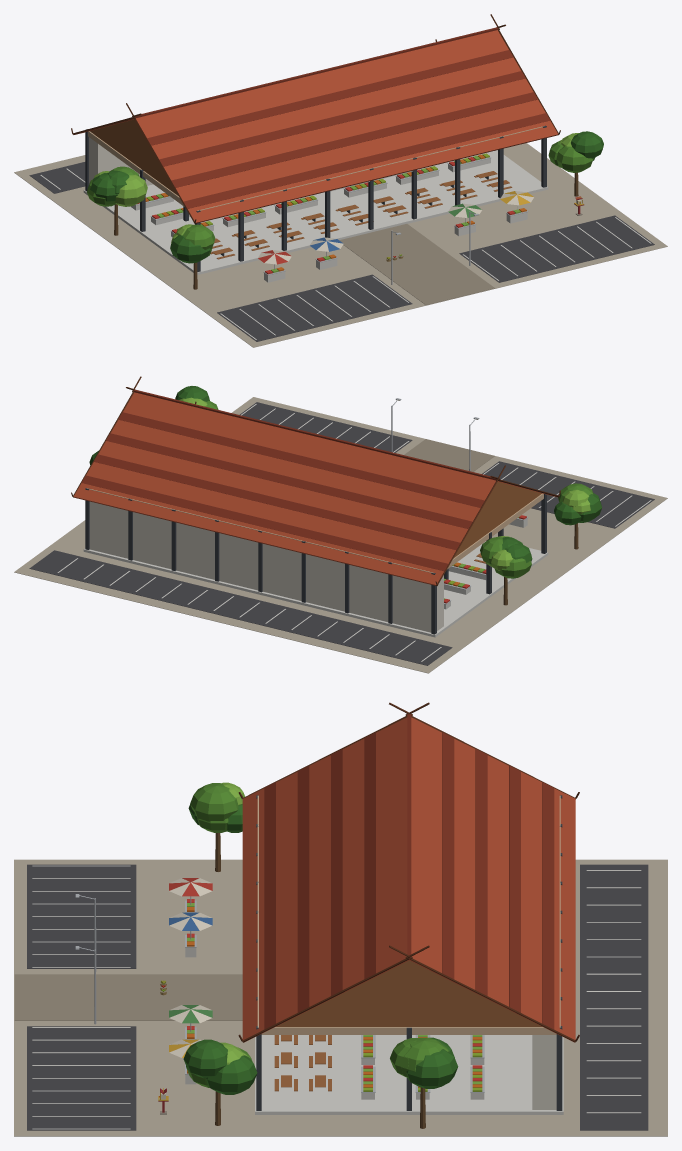
File: market.glb
The picture shows the model from 3 angles, top to bottom: view 1: azimuth 30°, elevation 25°; view 2: azimuth 150°, elevation 25°; view 3: azimuth 270°, elevation 25°; orthographic projection. The views are drawn at different scales.
Visible parts, largest first — view 1: body; view 2: body; view 3: body.
Part boxes in pixels (x1,y1,x2,y2): body: (14,14,667,347); body: (14,376,667,673); body: (14,702,667,1136).
Bounding box in the file's own units: 50.27 × 14.13 × 47.9.
